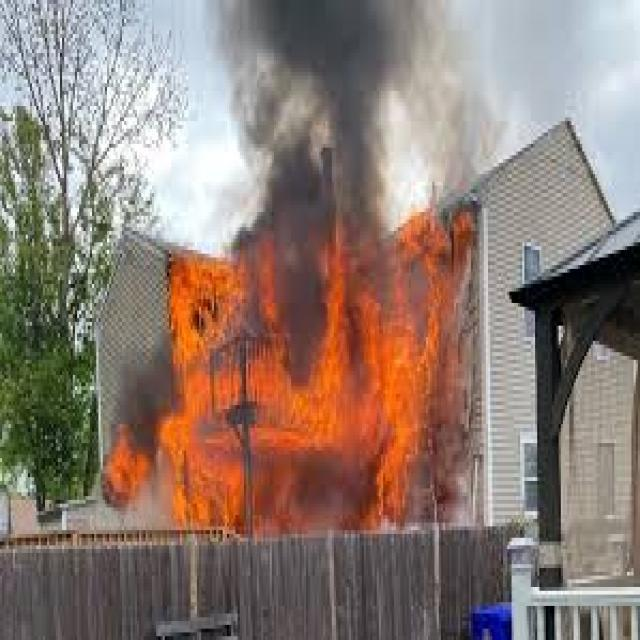Fire: (226, 0, 479, 336), (164, 255, 450, 518)
